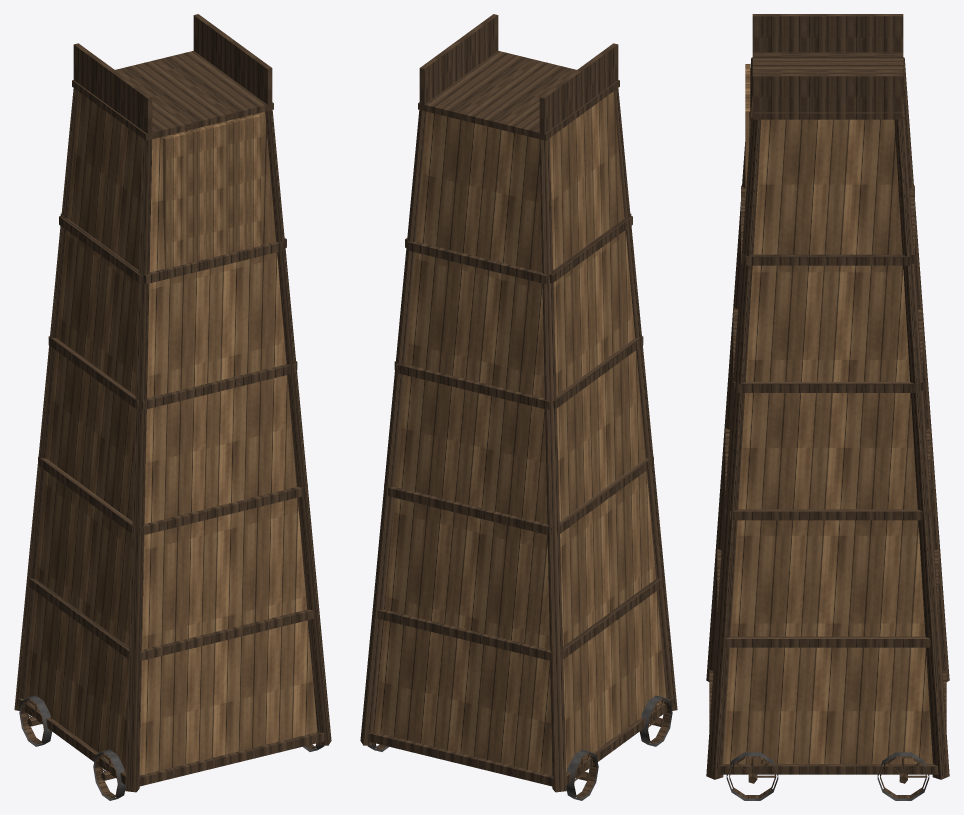
Rendered from SiegeTower_1_LOD1.gltf.
3 renders of one model, left to right at view 1: azimuth 30°, elevation 25°; view 2: azimuth 150°, elevation 25°; view 3: azimuth 270°, elevation 25°, orthographic. The views are drawn at different scales.
Parts seen in each view (by area): view 1: SiegeTower_1_LOD1; view 2: SiegeTower_1_LOD1; view 3: SiegeTower_1_LOD1.
Part boxes in pixels (box(x1,y1,x2,y2)): SiegeTower_1_LOD1: box(14, 14, 331, 800); SiegeTower_1_LOD1: box(360, 14, 677, 800); SiegeTower_1_LOD1: box(706, 14, 949, 800).
Size of the model in its own units: 5.32 by 16.47 by 5.16.
3 materials, 3 textured.
